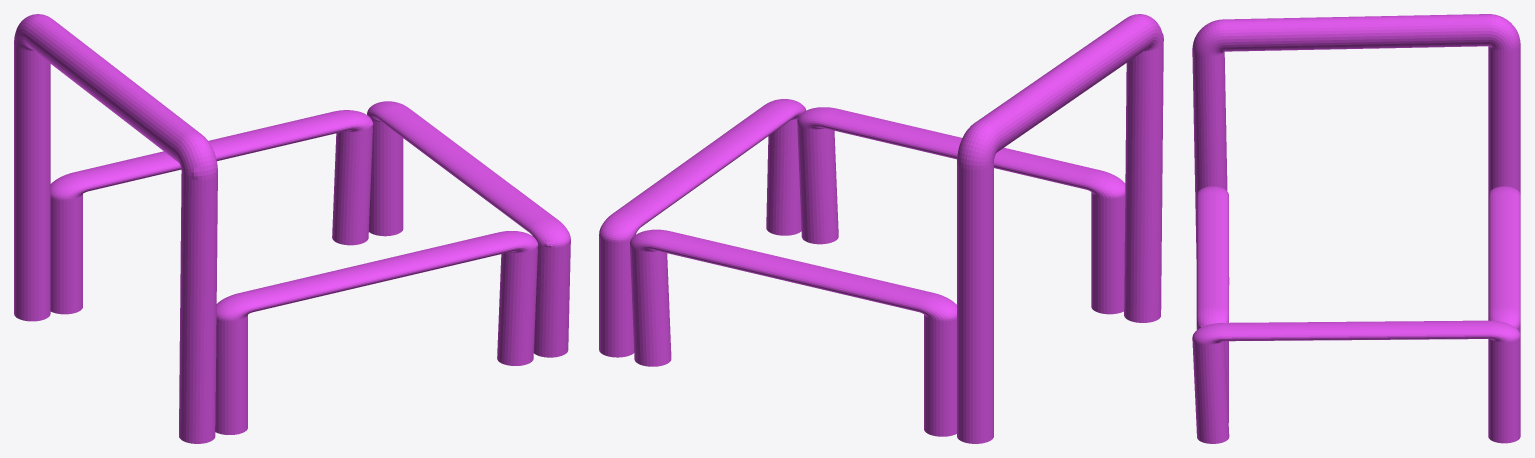
The model's file is WinPlatf.fbx.
3 renders of one model, left to right at view 1: azimuth 30°, elevation 25°; view 2: azimuth 150°, elevation 25°; view 3: azimuth 270°, elevation 25°, orthographic. The views are drawn at different scales.
Visible parts, largest first — view 1: Adelante, Lado 1, Lado2, Atras; view 2: Adelante, Lado2, Lado 1, Atras; view 3: Adelante, Atras, Lado 1, Lado2.
Part boxes in pixels (x1=…): Adelante: x1=14, y1=14, x2=217, y2=443; Lado 1: x1=215, y1=231, x2=538, y2=434; Lado2: x1=50, y1=110, x2=373, y2=314; Atras: x1=367, y1=101, x2=570, y2=357; Adelante: x1=957, y1=14, x2=1163, y2=443; Lado2: x1=630, y1=229, x2=956, y2=436; Lado 1: x1=797, y1=107, x2=1125, y2=314; Atras: x1=599, y1=99, x2=805, y2=357; Adelante: x1=1192, y1=14, x2=1520, y2=284; Atras: x1=1192, y1=320, x2=1520, y2=443; Lado 1: x1=1196, y1=186, x2=1228, y2=422; Lado2: x1=1488, y1=186, x2=1520, y2=334.
Bounding box in the file's own units: 2429 × 1843 × 2032.
4 materials, 4 textured.
